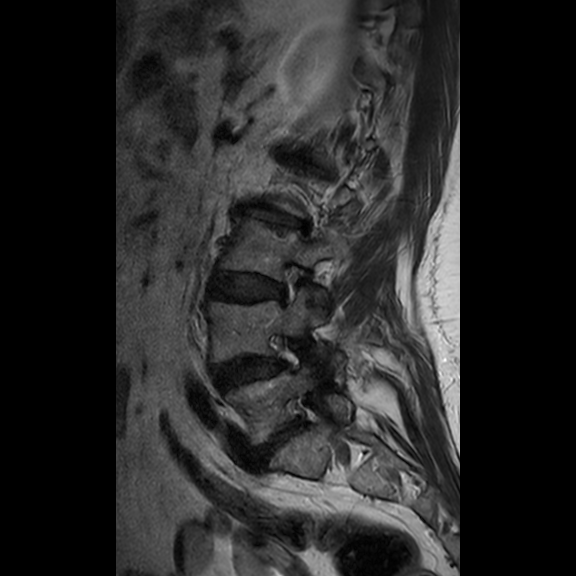LFS0: (265, 246, 312, 315), (259, 319, 311, 380)
